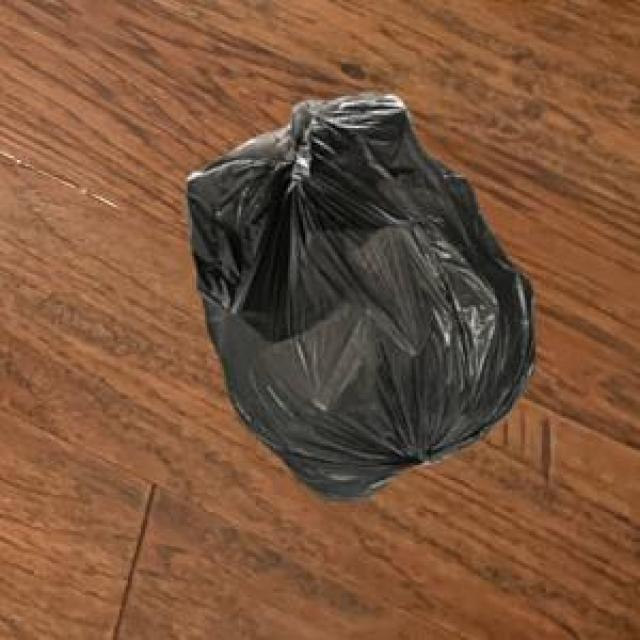waste: (188, 95, 534, 497)
